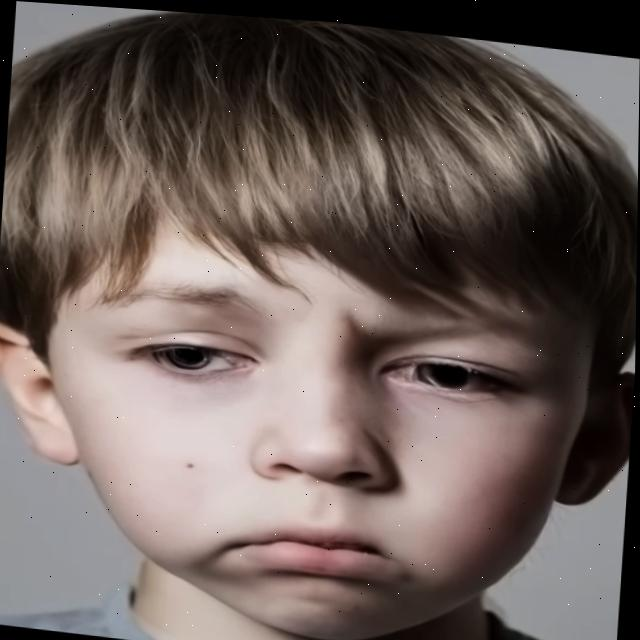sad: (0, 222, 586, 637)
